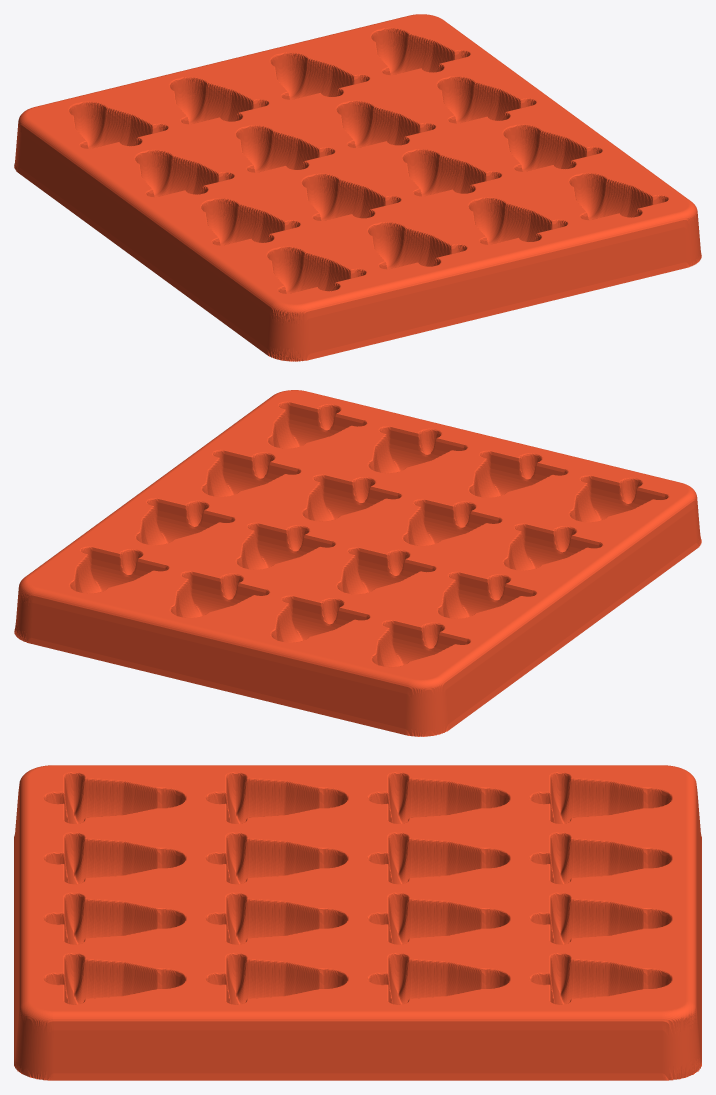
The model's file is mold.glb.
The picture shows the model from 3 angles, top to bottom: view 1: azimuth 30°, elevation 25°; view 2: azimuth 150°, elevation 25°; view 3: azimuth 270°, elevation 25°; orthographic projection. The views are drawn at different scales.
Visible parts, largest first — view 1: geometry_0; view 2: geometry_0; view 3: geometry_0.
Boxes of the visible parts, x1,y1,x2,y2 form: geometry_0: (14,14,701,361); geometry_0: (14,390,701,736); geometry_0: (14,765,701,1080).
Bounding box in the file's own units: 0.1392 × 0.0159 × 0.1569.
